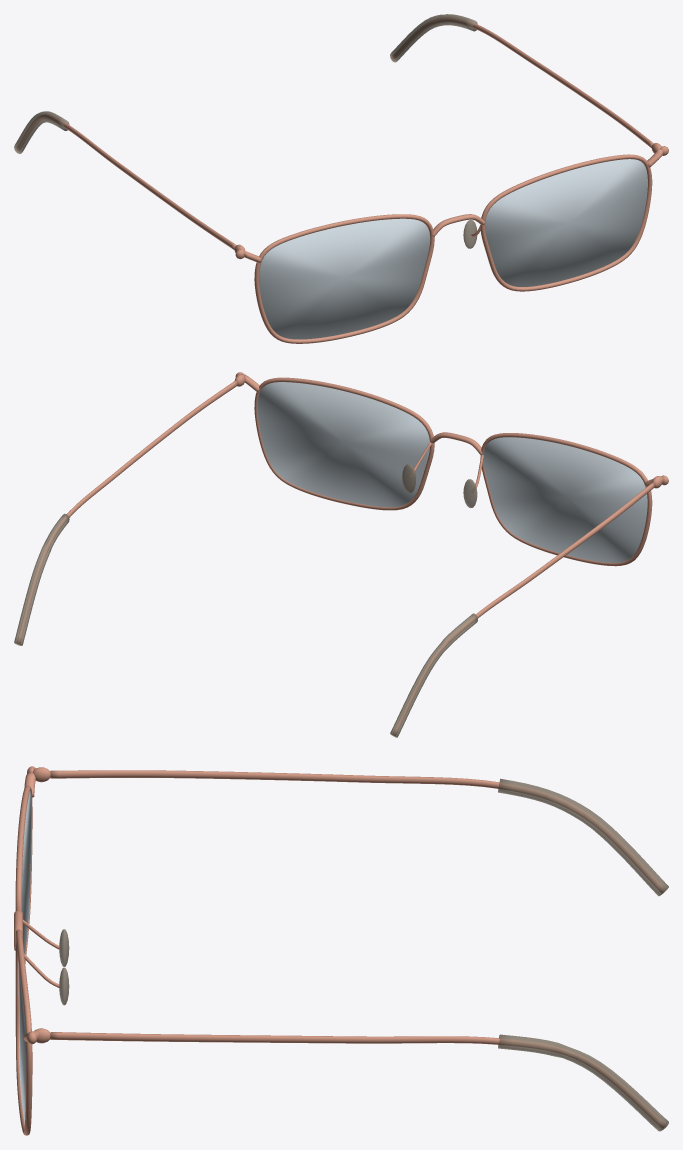
The model's file is rectangle_rose_gold_metal_frame_028.glb.
The picture shows the model from 3 angles, top to bottom: view 1: azimuth 30°, elevation 25°; view 2: azimuth 150°, elevation 25°; view 3: azimuth 270°, elevation 25°; orthographic projection. The views are drawn at different scales.
Parts seen in each view (by area): view 1: Lens_image_left, Rim_image_left, Temple_tip_image_left, Hinge_image_left; view 2: Lens_image_left, Rim_image_left, Temple_tip_image_left, Hinge_image_left; view 3: Rim_image_left, Temple_tip_image_left, Lens_image_left, Hinge_image_left.
Part boxes in pixels (x1,y1,x2,y2): Lens_image_left: (259, 159, 647, 339); Rim_image_left: (17, 17, 668, 343); Temple_tip_image_left: (14, 14, 477, 248); Hinge_image_left: (234, 143, 660, 252); Lens_image_left: (257, 382, 647, 562); Rim_image_left: (16, 372, 668, 735); Temple_tip_image_left: (14, 464, 477, 737); Hinge_image_left: (234, 374, 662, 492); Rim_image_left: (15, 766, 665, 1135); Temple_tip_image_left: (59, 778, 668, 1131); Lens_image_left: (18, 791, 31, 1124); Hinge_image_left: (14, 767, 60, 1043).
Size of the model in its own units: 0.14 by 0.0361 by 0.1431.
